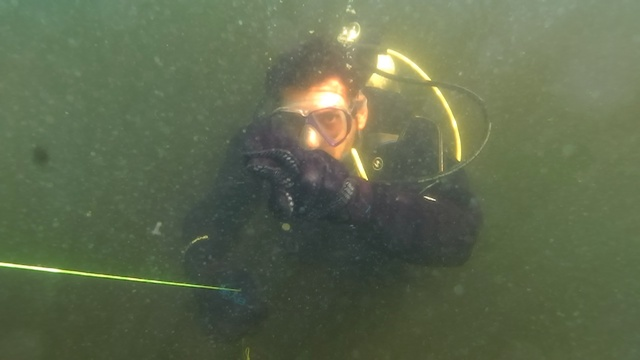Diver: (151, 19, 515, 352)
Head: (238, 30, 383, 217)
